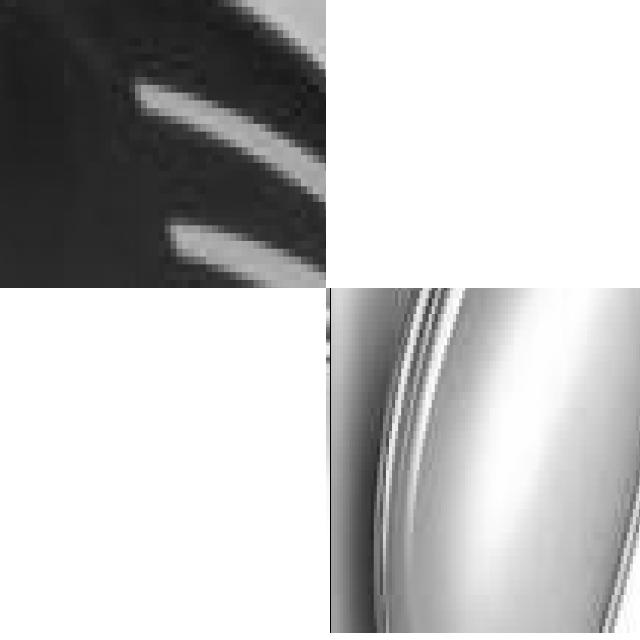forks: (0, 0, 326, 288)
spoons: (326, 288, 640, 571)
